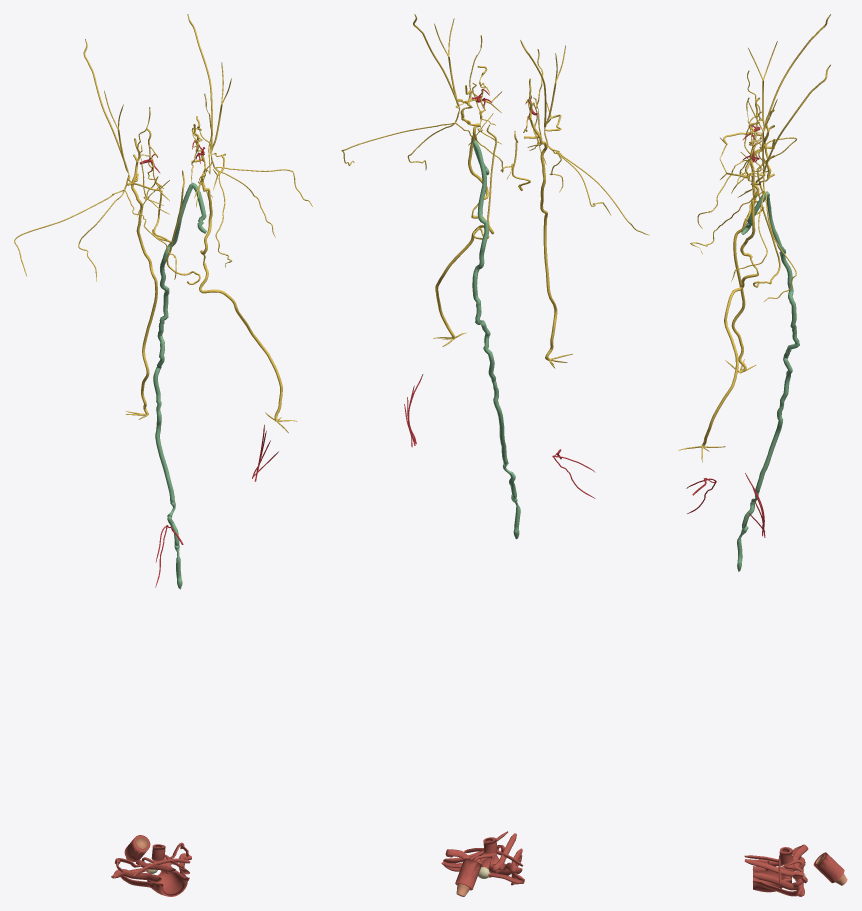
File: handmade.glb
3 renders of one model, left to right at view 1: azimuth 30°, elevation 25°; view 2: azimuth 150°, elevation 25°; view 3: azimuth 270°, elevation 25°, orthographic. The views are drawn at different scales.
Parts seen in each view (by area): view 1: Thoracic duct, Phrenic nerve.l, Phrenic nerve.r, Supraclavicular nerves.r, Bulbospongiosus muscle; view 2: Thoracic duct, Phrenic nerve.r, Phrenic nerve.l; view 3: Thoracic duct, Phrenic nerve.l, Phrenic nerve.r, Supraclavicular nerves.l, Internal anal sphincter, Bulbospongiosus muscle, Ischiocavernosus muscle (female).l.
Part boxes in pixels (<box>): Thoracic duct: <box>153,182,206,581</box>; Phrenic nerve.l: <box>191,124,297,433</box>; Phrenic nerve.r: <box>125,138,157,419</box>; Supraclavicular nerves.r: <box>14,175,176,281</box>; Bulbospongiosus muscle: <box>147,870,187,896</box>; Thoracic duct: <box>472,140,520,532</box>; Phrenic nerve.r: <box>524,99,572,368</box>; Phrenic nerve.l: <box>433,85,493,346</box>; Thoracic duct: <box>737,191,799,563</box>; Phrenic nerve.l: <box>678,139,775,462</box>; Phrenic nerve.r: <box>725,109,774,373</box>; Supraclavicular nerves.l: <box>690,175,796,301</box>; Internal anal sphincter: <box>813,852,844,882</box>; Bulbospongiosus muscle: <box>753,866,791,892</box>; Ischiocavernosus muscle (female).l: <box>753,873,802,895</box>.
Bounding box in the file's own units: 0.2839 × 0.8003 × 0.144.
